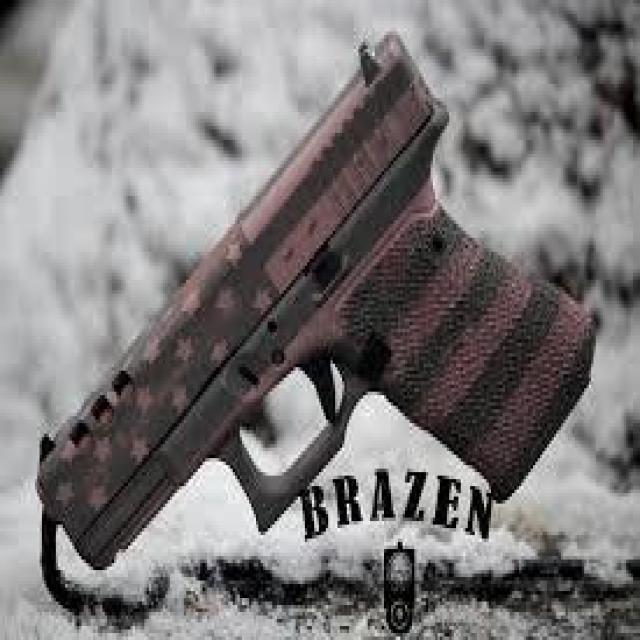gun: (37, 35, 596, 574)
